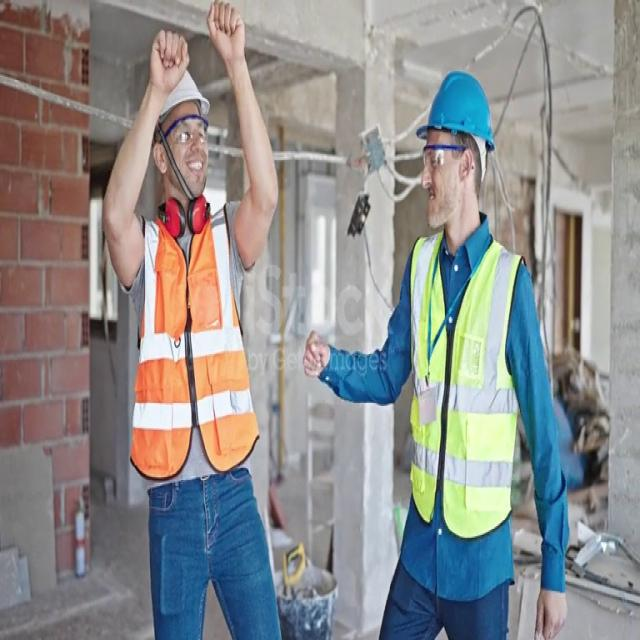capacete: (408, 66, 496, 180), (138, 41, 218, 127)
